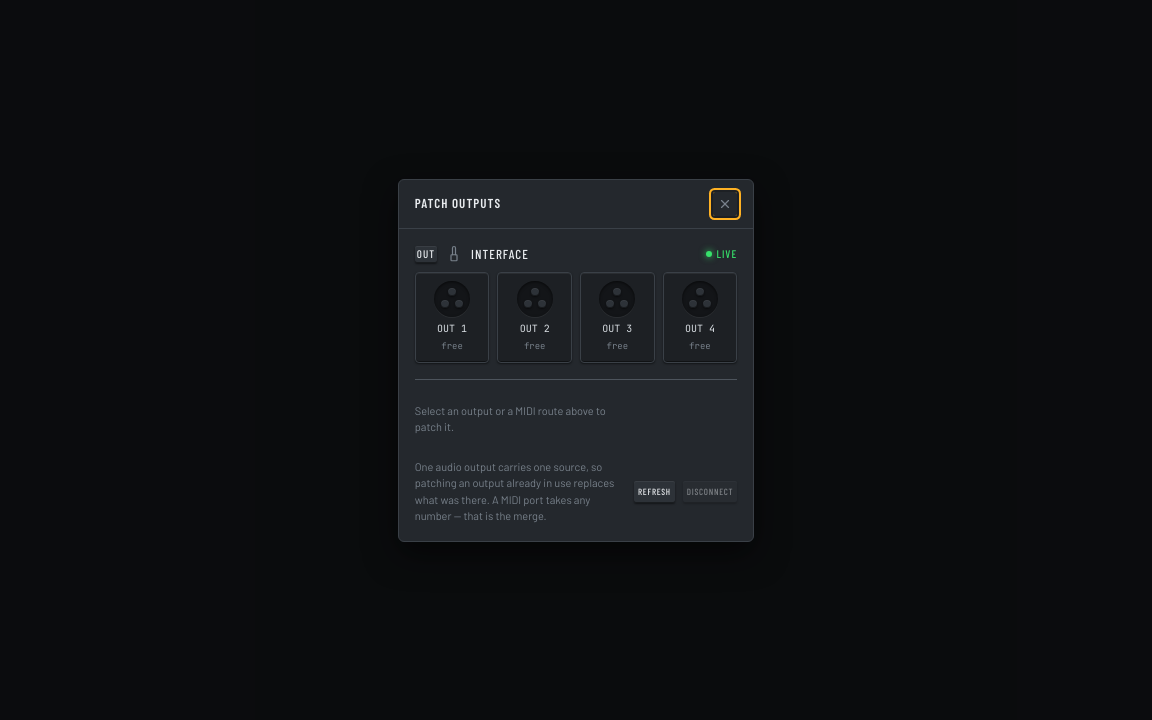
Test: OutputPatchbayModal › selecting an output reveals its tap switch and what the tap will do
This screenshot has width=1152, height=720.
Click the option with aria-label "OUT 1 on interface": (452, 317) [415,272,489,362]
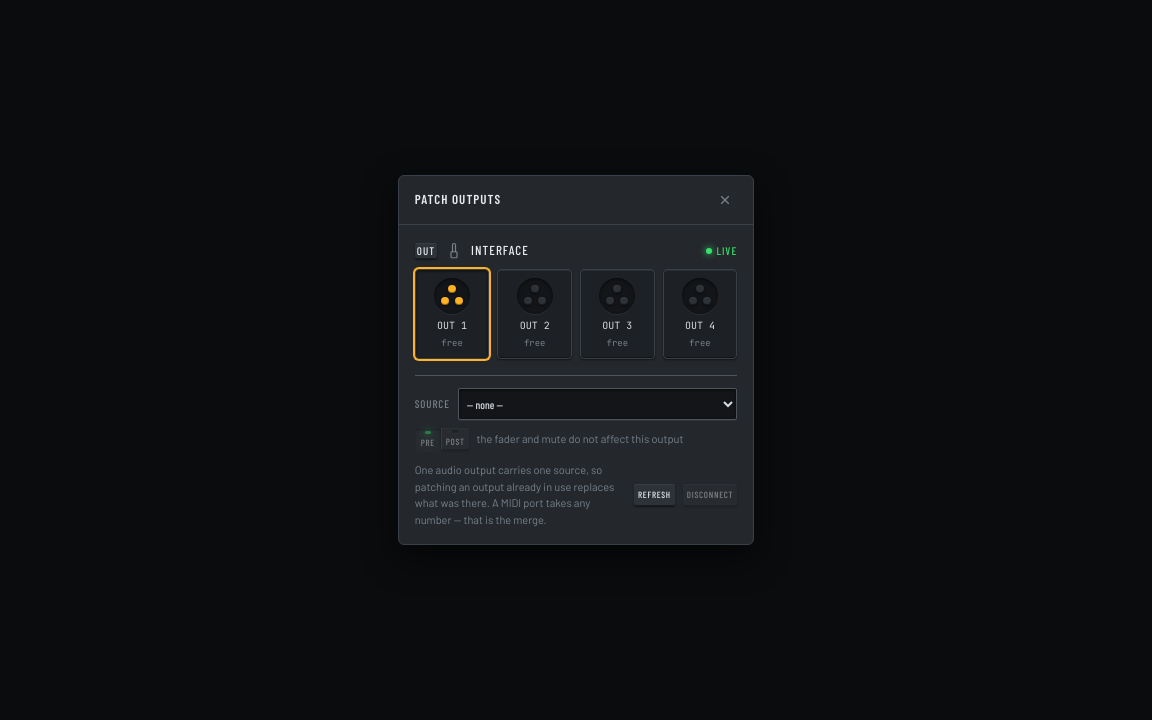
Result: the text "the fader and mute do not affect this output" is shown at [477,431,684,447]
